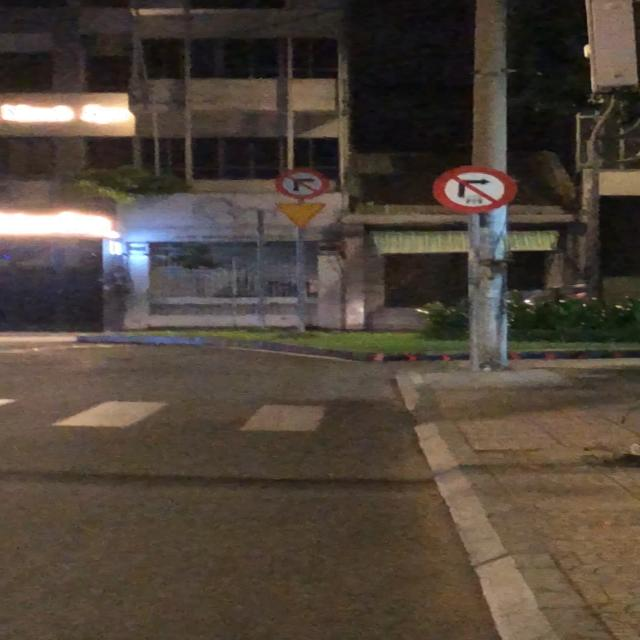Bien bao cam re phai: (273, 167, 332, 198)
Bien bao cam xe o to re phai: (429, 163, 524, 216)
Bien bao giao nhau voi duong uu tien: (272, 200, 332, 228)
